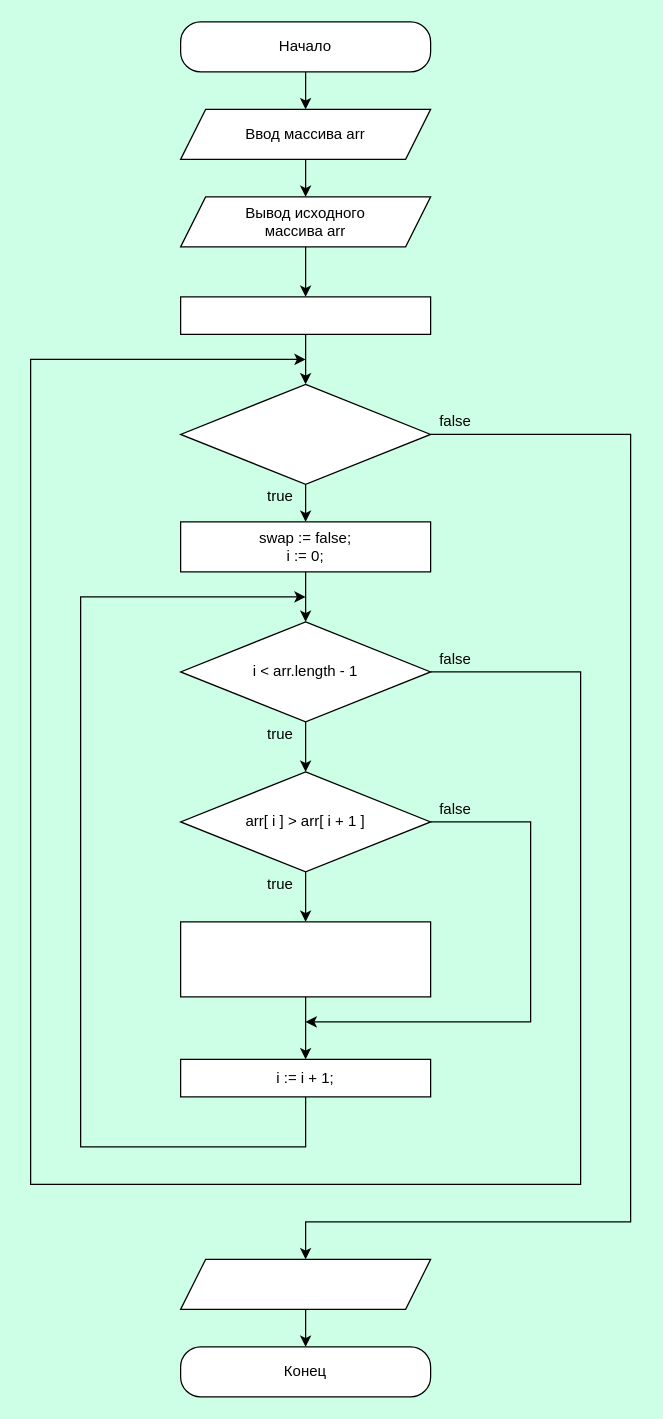
This 663x1419 diagram has some shape labels left out. Each missing label, with the centre of its shape:
swap := true: the point at 305,315
swap = true: the point at 305,433
tmp := arr[ i ]; arr[ i ] := arr[ i + 1 ]; arr[ i + 1 ] := tmp; swap := true;: the point at 305,959
Вывод отсортированного массива arr: the point at 305,1283
